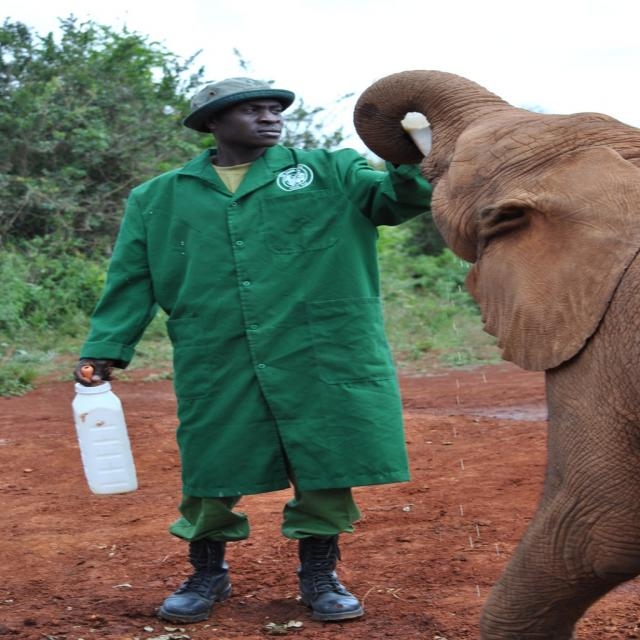Elephant: (350, 66, 640, 640)
